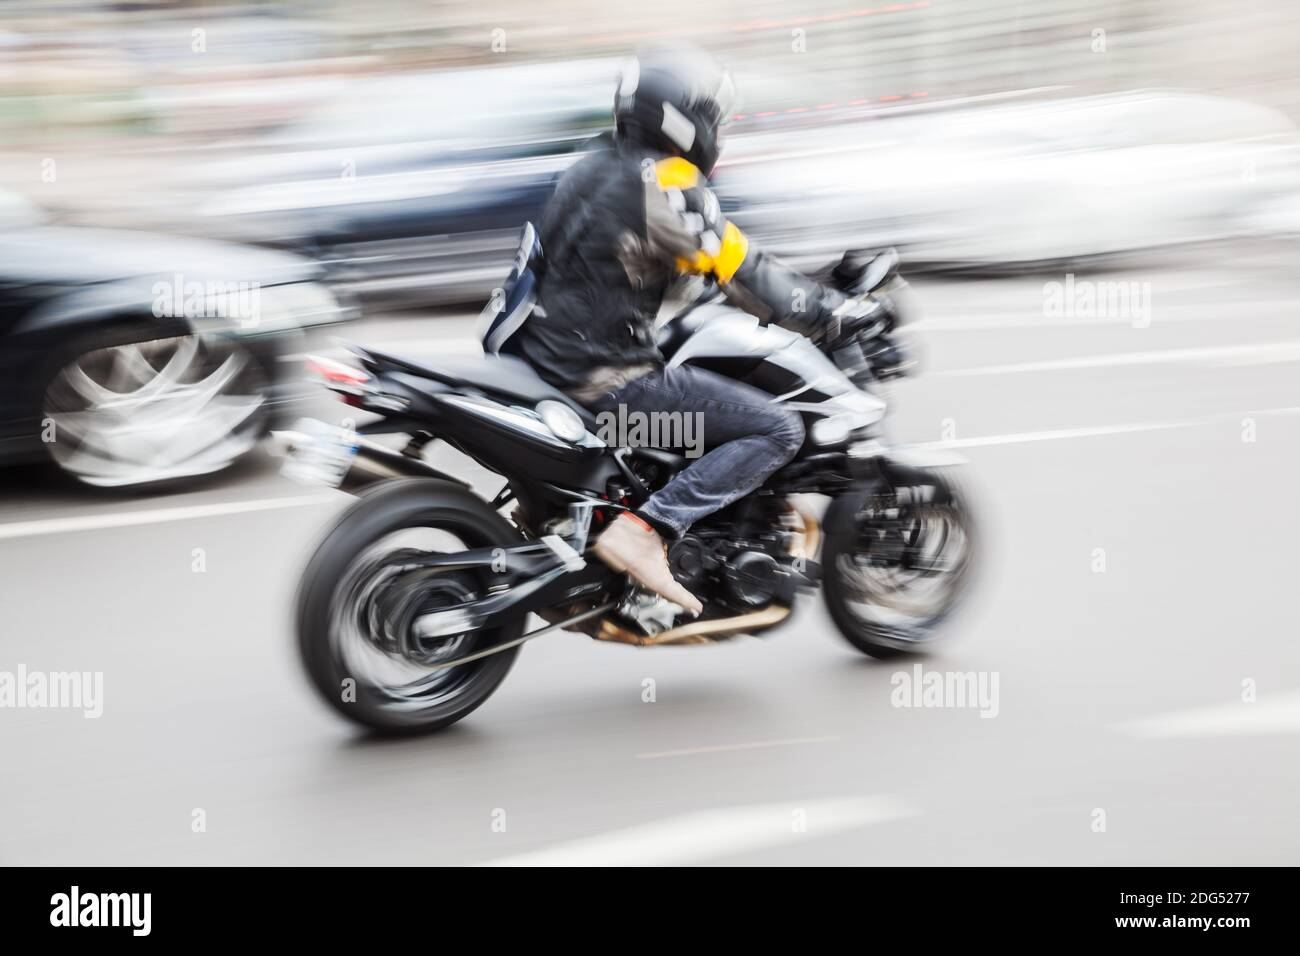bike: (297, 57, 962, 741)
